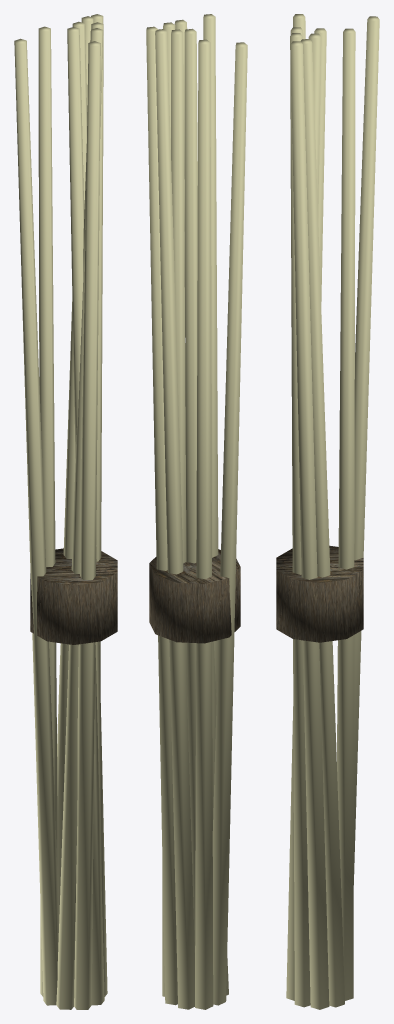
Rendered from SM_Item_reeds.gltf.
3 renders of one model, left to right at view 1: azimuth 90°, elevation 25°; view 2: azimuth 210°, elevation 25°; view 3: azimuth 270°, elevation 25°, orthographic.
Visible parts, largest first — view 1: SM_Item_reeds; view 2: SM_Item_reeds; view 3: SM_Item_reeds.
Part boxes in pixels (<box>): SM_Item_reeds: <box>14,14,117,1009</box>; SM_Item_reeds: <box>146,14,247,1009</box>; SM_Item_reeds: <box>276,14,379,1009</box>.
Bounding box in the file's own units: 0.056 × 0.6504 × 0.0631.
Materials: 2 (1 with a texture image).
